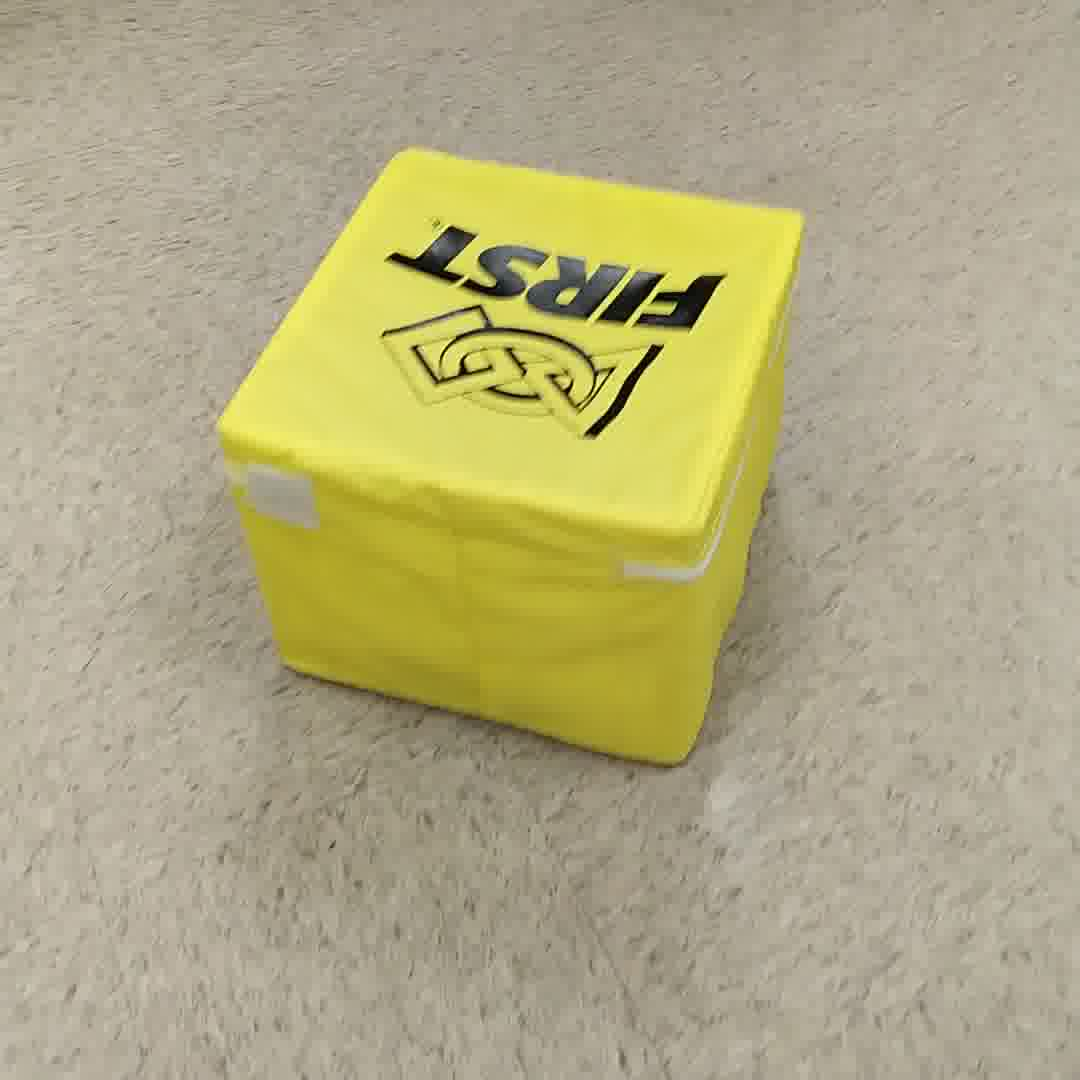box: (203, 127, 815, 772)
